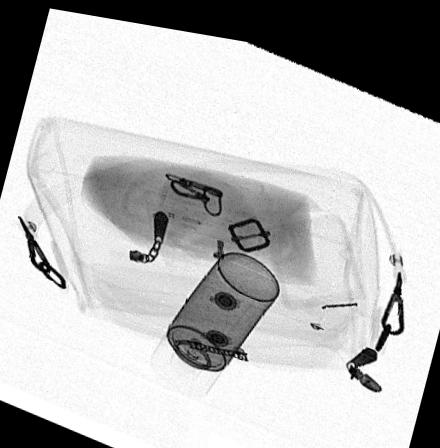Sprayer: (150, 243, 278, 390)
